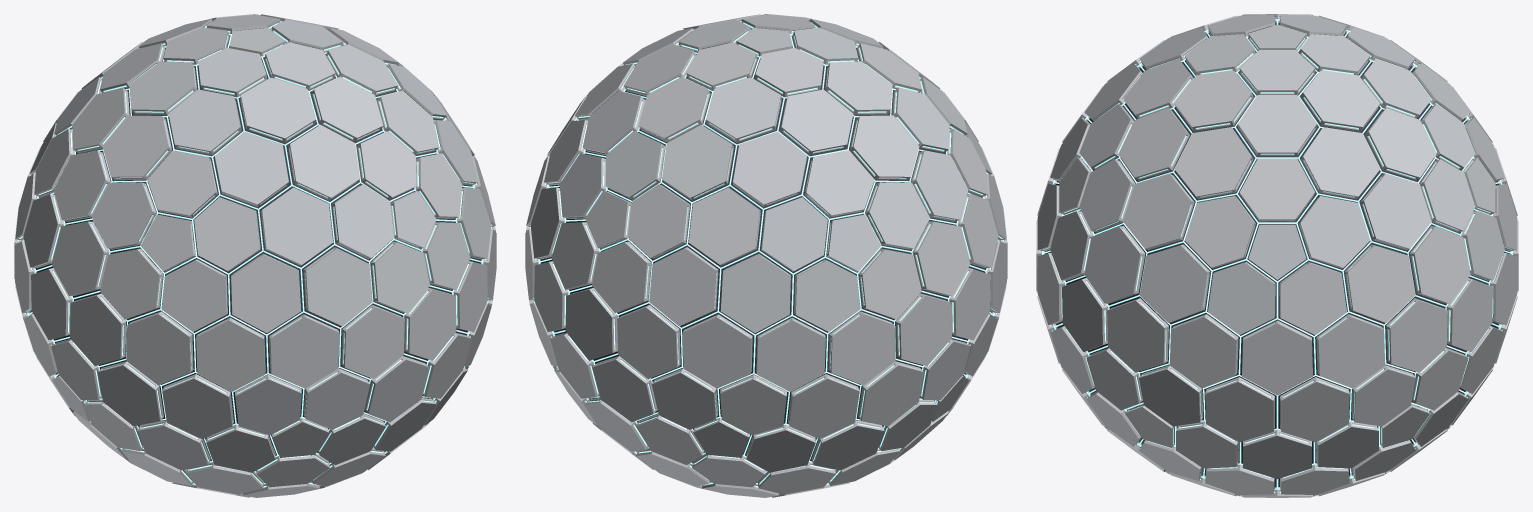
3 renders of one model, left to right at view 1: azimuth 30°, elevation 25°; view 2: azimuth 150°, elevation 25°; view 3: azimuth 270°, elevation 25°, orthographic.
Parts seen in each view (by area): view 1: InnerDark, InnerWire, Column_127, Column_077, Column_113, Column_129, Column_128, Column_059, Column_114, Column_139, Column_078, Column_112 (+64 smaller); view 2: InnerDark, InnerWire, Column_123, Column_083, Column_108, Column_121, Column_122, Column_062, Column_107, Column_136, Column_082, Column_106 (+64 smaller); view 3: InnerDark, InnerWire, Column_145, Column_118, Column_132, Column_104, Column_117, Column_044, Column_047, Column_074, Column_086, Column_092 (+61 smaller).
Part boxes in pixels (box(x1,y1,x2,y2)): InnerDark: box(30, 35, 481, 482); InnerWire: box(19, 29, 487, 484); Column_127: box(231, 253, 301, 332); Column_077: box(261, 187, 333, 265); Column_113: box(215, 131, 289, 206); Column_129: box(303, 247, 372, 326); Column_128: box(269, 314, 339, 388); Column_059: box(196, 317, 265, 391); Column_114: box(288, 125, 359, 200); Column_139: box(126, 311, 193, 385); Column_078: box(194, 197, 260, 271); Column_112: box(240, 77, 315, 142); InnerDark: box(540, 35, 991, 482); InnerWire: box(534, 29, 1002, 484); Column_123: box(720, 253, 790, 332); Column_083: box(688, 187, 760, 265); Column_108: box(732, 131, 806, 206); Column_121: box(649, 247, 718, 326); Column_122: box(682, 314, 752, 388); Column_062: box(756, 317, 825, 391); Column_107: box(662, 125, 733, 200); Column_136: box(828, 311, 895, 385); Column_082: box(761, 197, 827, 271); Column_106: box(706, 77, 781, 142); InnerDark: box(1045, 22, 1509, 486); InnerWire: box(1042, 19, 1512, 489); Column_145: box(1242, 320, 1312, 395); Column_118: box(1344, 244, 1415, 322); Column_132: box(1139, 244, 1210, 322); Column_104: box(1301, 127, 1380, 199); Column_117: box(1174, 127, 1253, 199); Column_044: box(1169, 314, 1238, 388); Column_047: box(1316, 314, 1385, 388); Column_074: box(1123, 173, 1194, 250); Column_086: box(1360, 173, 1431, 250); Column_092: box(1238, 95, 1316, 156).
Size of the model in its own units: 4.3 by 4.3 by 4.3.
